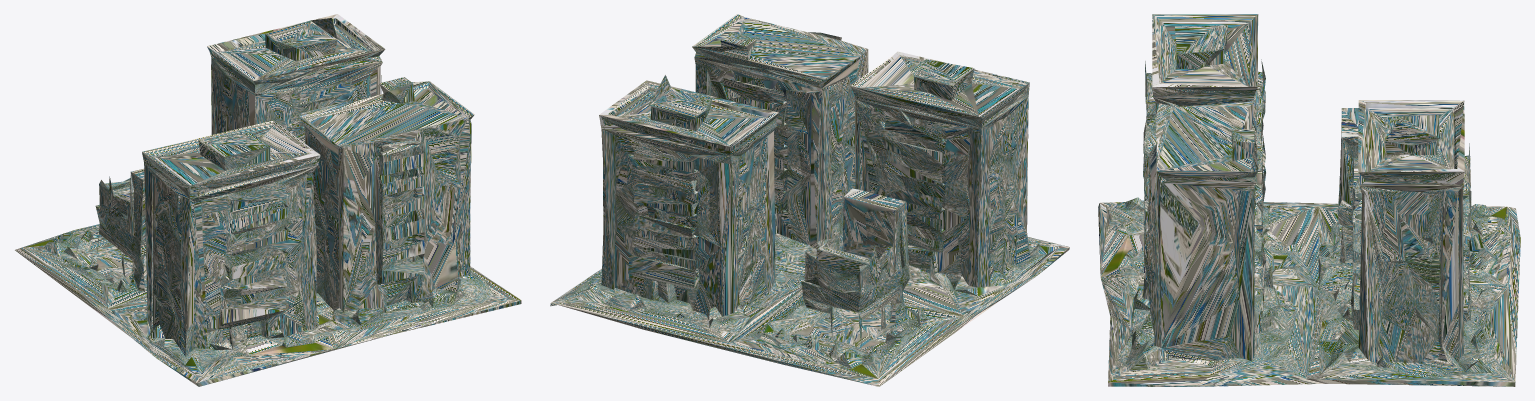
Rendered from town_flats_trop_1x1_7.glb.
3 renders of one model, left to right at view 1: azimuth 30°, elevation 25°; view 2: azimuth 150°, elevation 25°; view 3: azimuth 270°, elevation 25°, orthographic. The views are drawn at different scales.
Visible parts, largest first — view 1: normalize; view 2: normalize; view 3: normalize.
Boxes of the visible parts, x1=… form: normalize: x1=15, y1=14, x2=521, y2=386; normalize: x1=550, y1=14, x2=1069, y2=386; normalize: x1=1098, y1=14, x2=1520, y2=386.
Size of the model in its own units: 1 by 0.6012 by 0.9763.
Materials: 1 (1 with a texture image).
